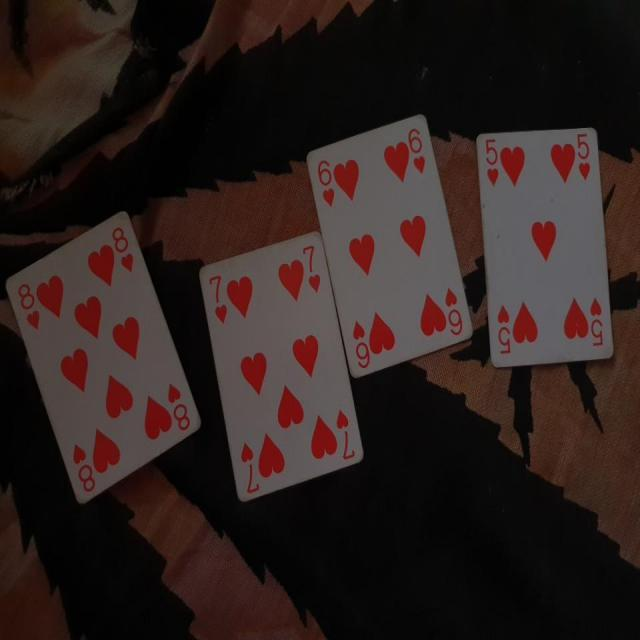5 of hearts: (469, 114, 616, 372)
6 of hearts: (308, 109, 477, 386)
7 of hearts: (194, 224, 368, 508)
8 of hearts: (1, 207, 210, 513)
